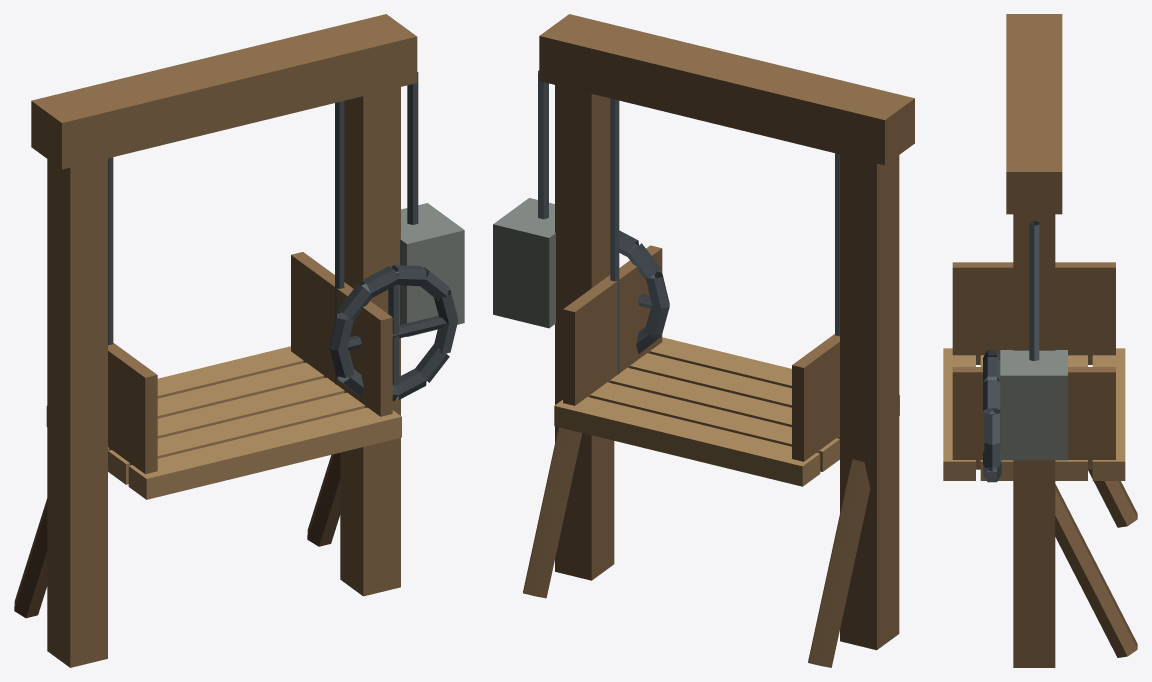
The picture shows the model from 3 angles, left to right: view 1: azimuth 30°, elevation 25°; view 2: azimuth 150°, elevation 25°; view 3: azimuth 270°, elevation 25°; orthographic projection. The views are drawn at different scales.
Visible parts, largest first — view 1: a868b19bc2858dd2a7d2e71e8a588c8494b46154ad3cad9397d8dab7dbdd; view 2: a868b19bc2858dd2a7d2e71e8a588c8494b46154ad3cad9397d8dab7dbdd; view 3: a868b19bc2858dd2a7d2e71e8a588c8494b46154ad3cad9397d8dab7dbdd.
Part boxes in pixels (x1,y1,x2,y2): a868b19bc2858dd2a7d2e71e8a588c8494b46154ad3cad9397d8dab7dbdd: [14, 14, 464, 667]; a868b19bc2858dd2a7d2e71e8a588c8494b46154ad3cad9397d8dab7dbdd: [493, 14, 914, 667]; a868b19bc2858dd2a7d2e71e8a588c8494b46154ad3cad9397d8dab7dbdd: [943, 14, 1137, 667].
Bounding box in the file's own units: 1.8 × 2.37 × 0.8332.
Materials: 1 (1 with a texture image).
